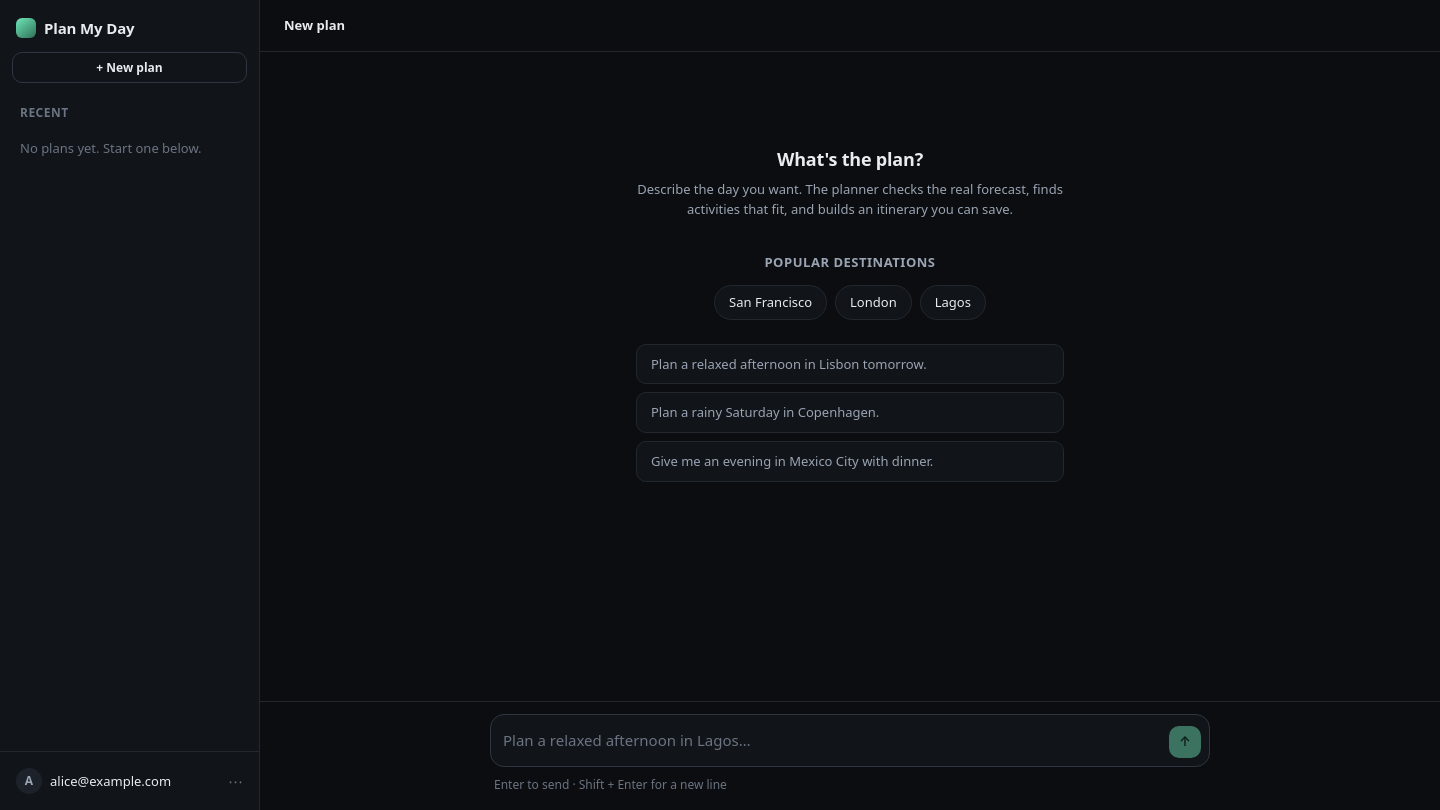
Test: AI key control (BYOK) › never writes the key to browser storage
Step 1. Click the button "A alice@example.com ⋯" → coordinates (130, 781), box x1=8 y1=760 x2=251 y2=802
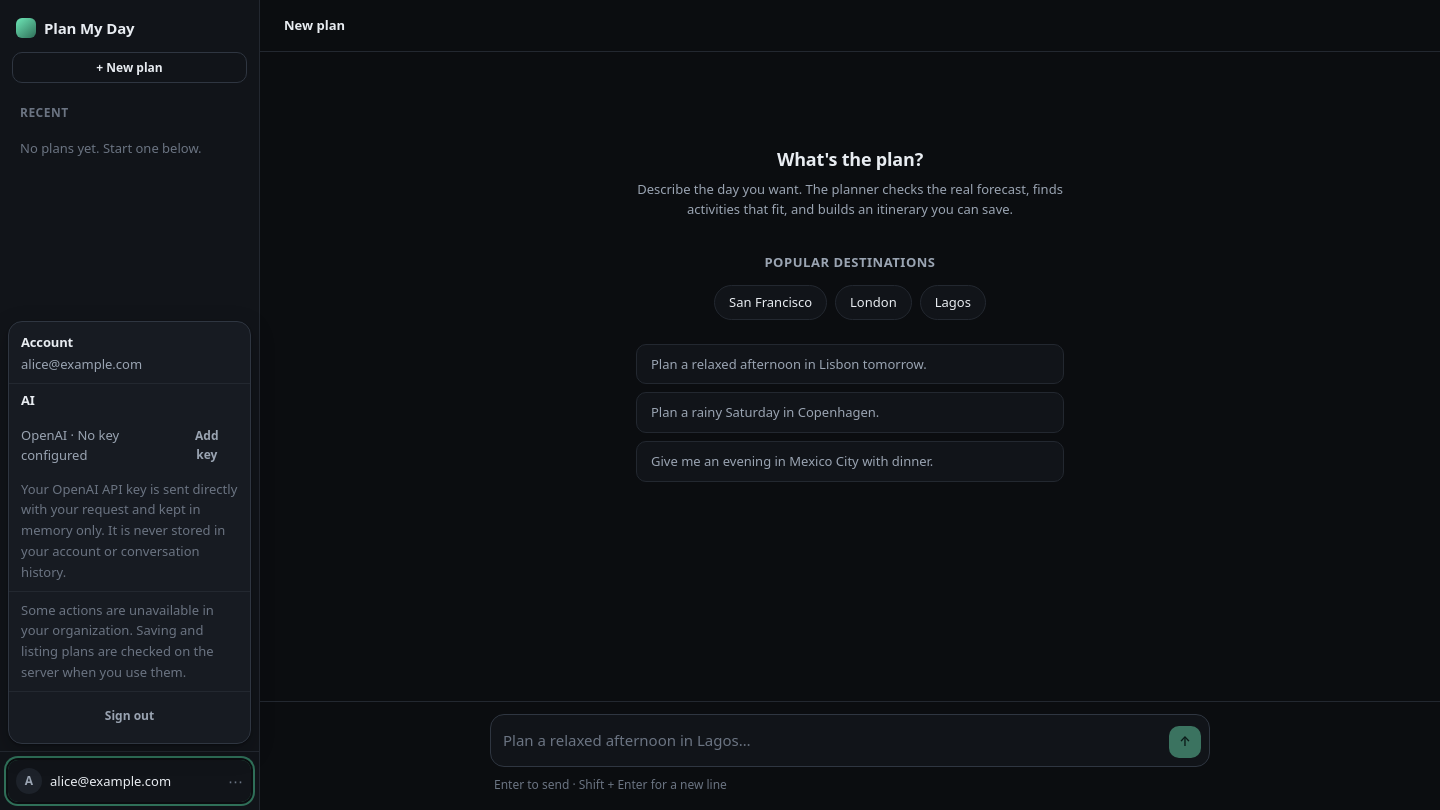
Step 2. Click the button "Add key" → coordinates (207, 446), box x1=176 y1=420 x2=238 y2=471
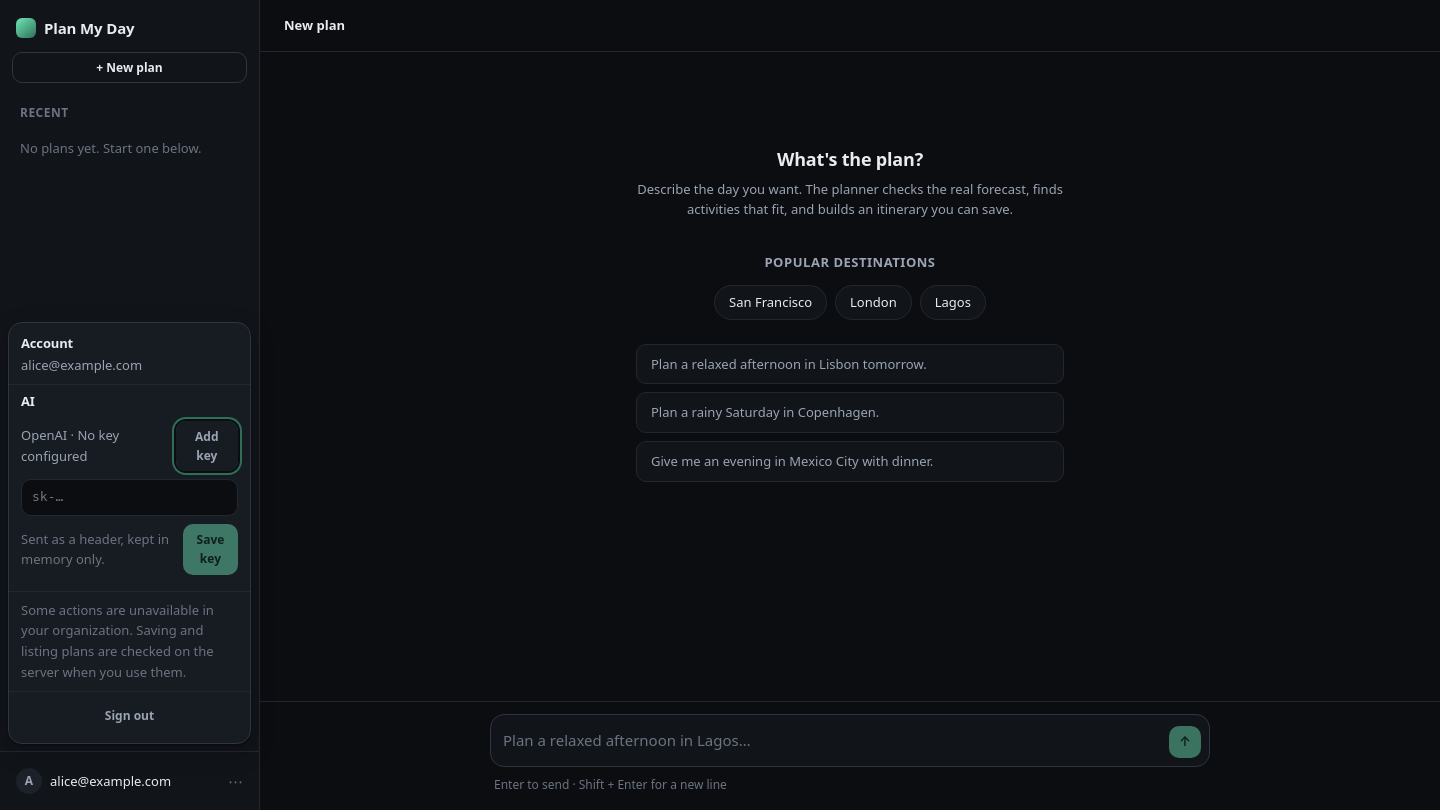
Step 3. Type "sk-storage-probe" into the password field named "api key" → coordinates (130, 498), box x1=21 y1=480 x2=238 y2=516
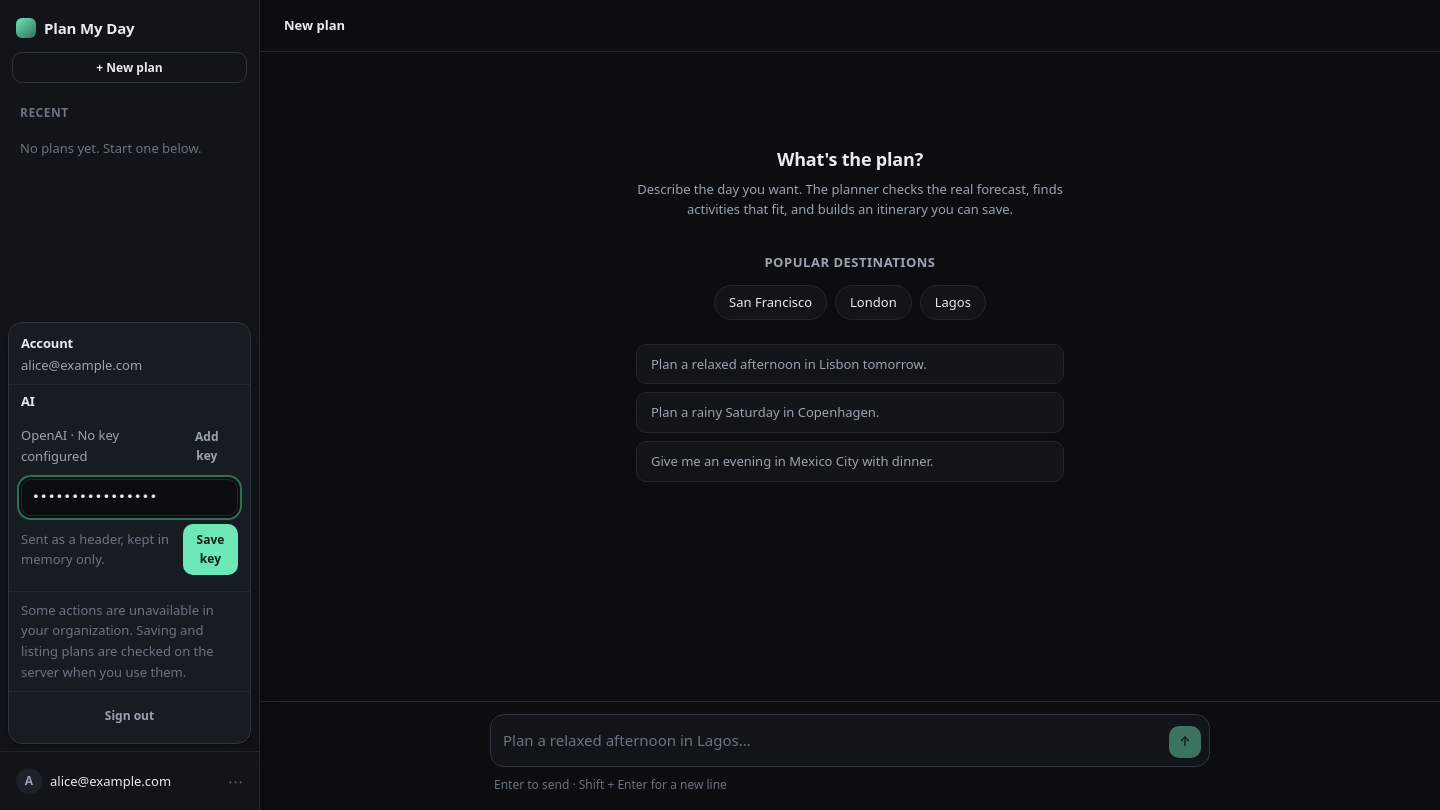
Step 4. Click the button "Save key" → coordinates (210, 550), box x1=183 y1=524 x2=238 y2=575
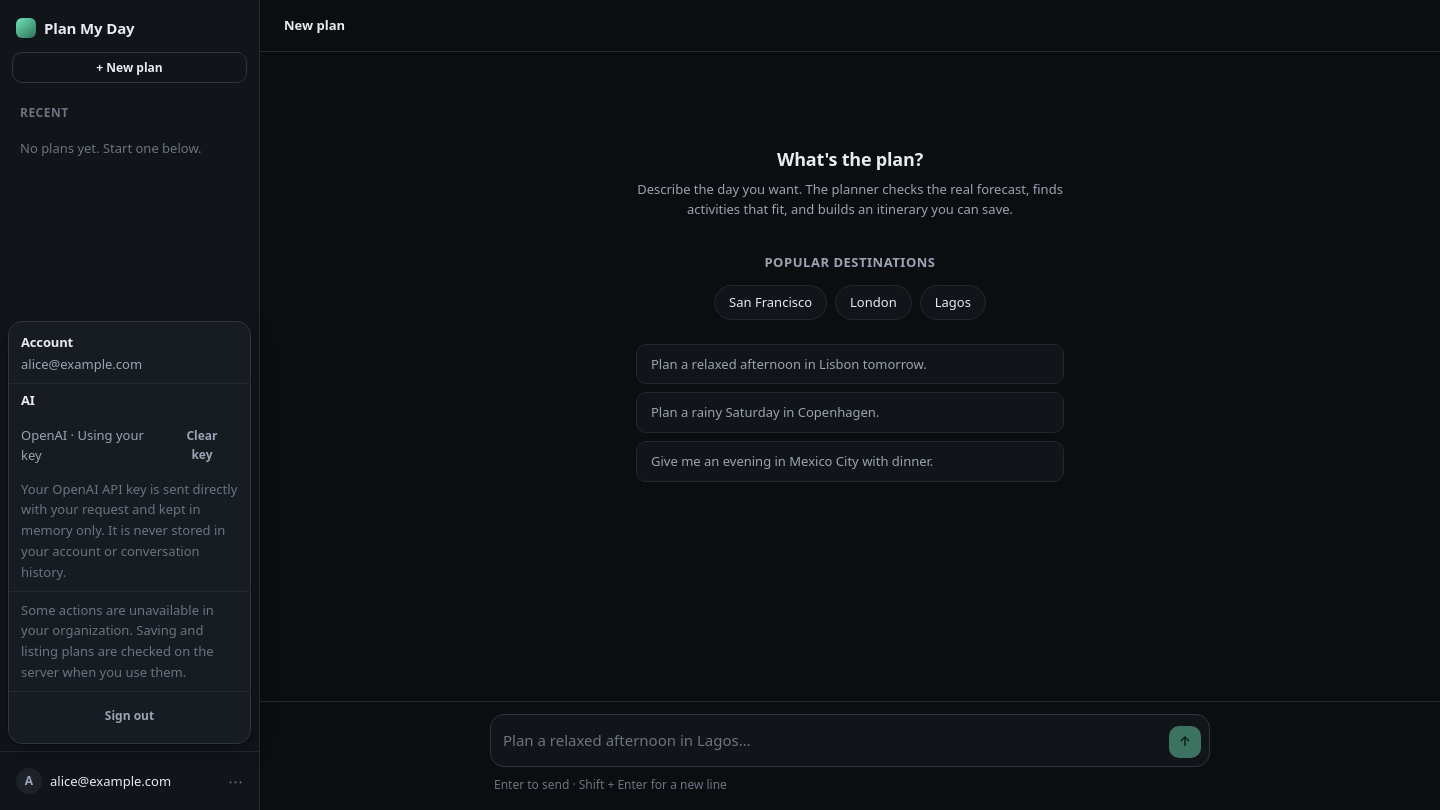
Expected: the text "OpenAI · Using your key" is shown, x1=21 y1=425 x2=154 y2=466
